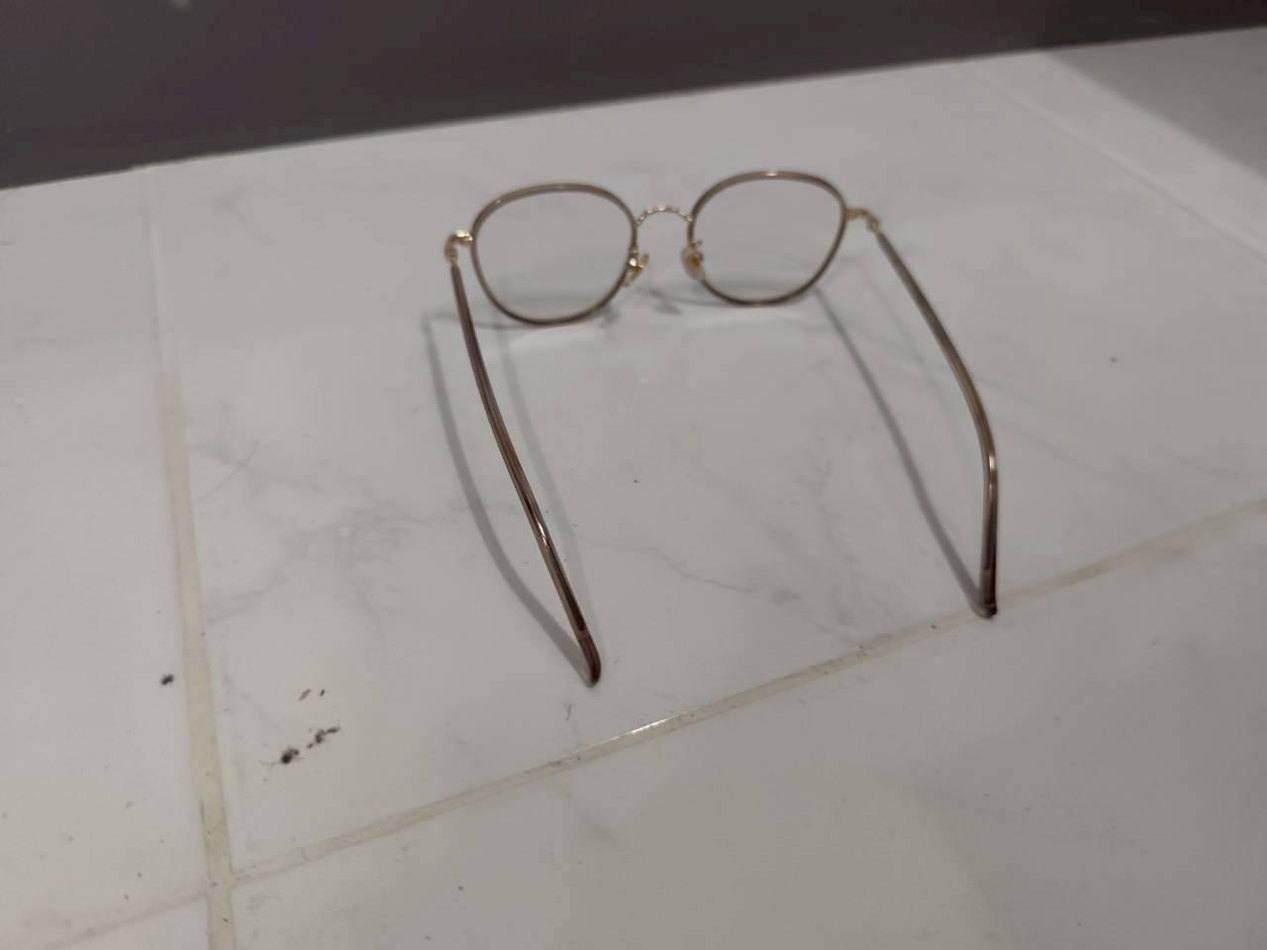glasses: (439, 160, 1021, 682)
